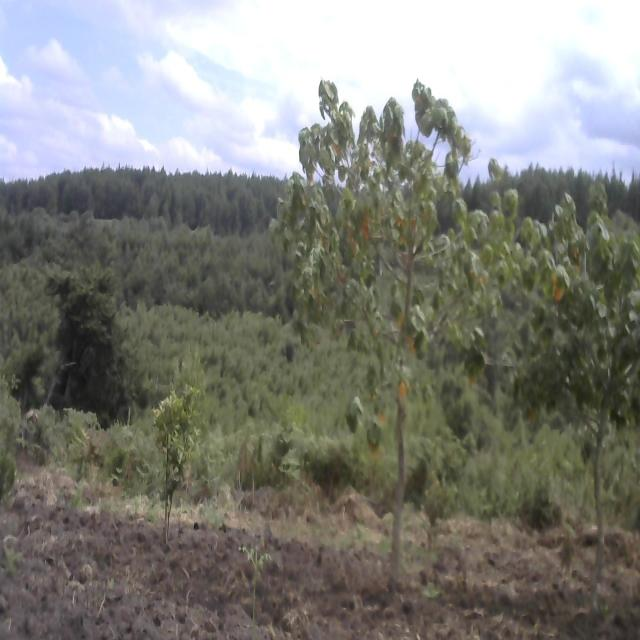Lemon Myrtle: (146, 383, 211, 542)
other: (280, 75, 501, 624), (511, 113, 640, 602)
